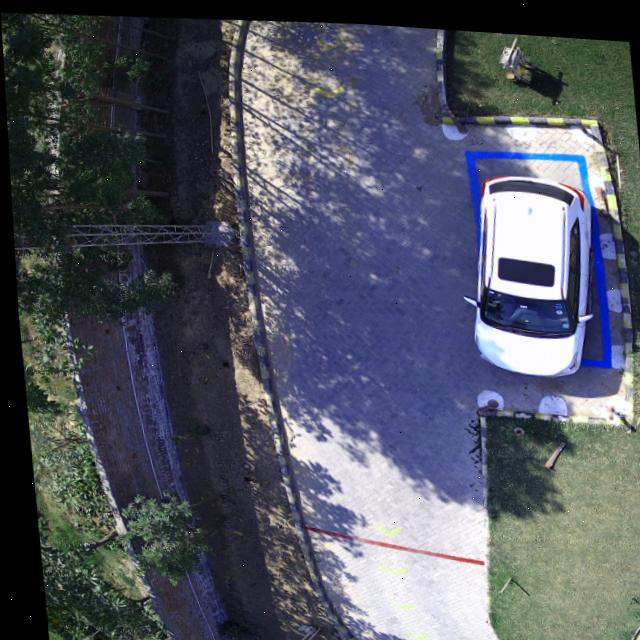car: (469, 166, 589, 368)
